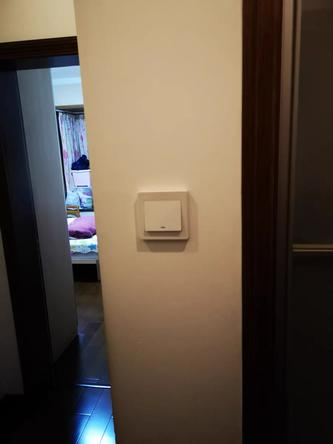switch: (141, 198, 176, 233)
